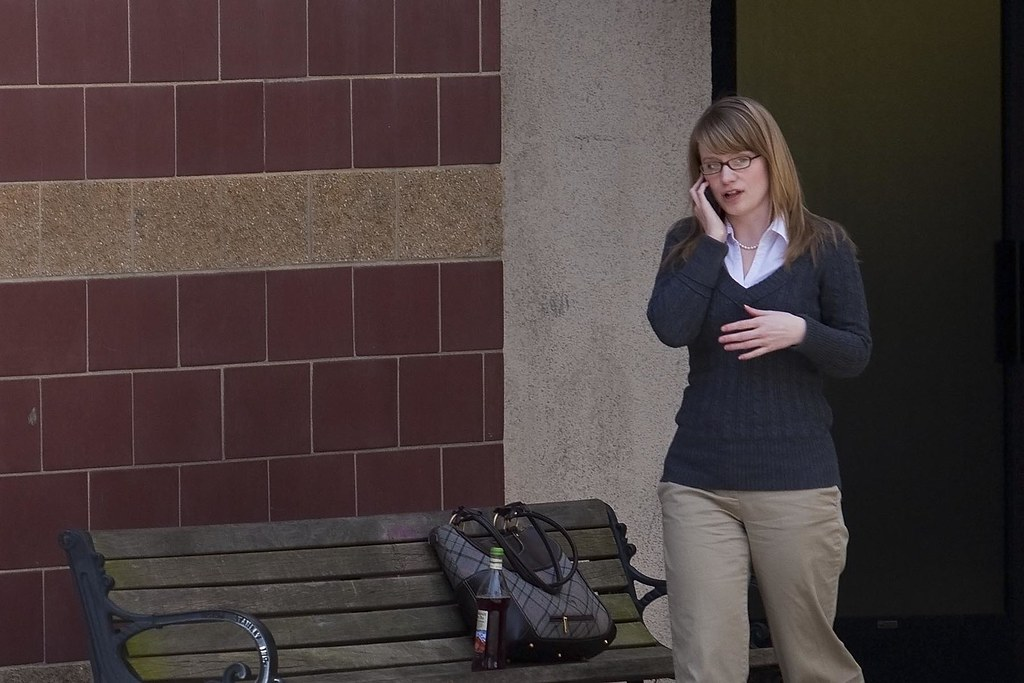phone: (676, 166, 729, 232)
talk: (683, 148, 774, 237)
